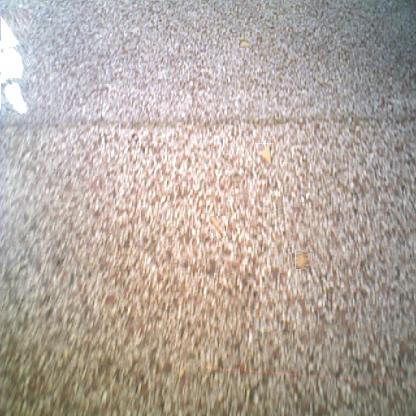dirty: (1, 9, 29, 115), (255, 143, 273, 166), (210, 216, 226, 238), (294, 251, 310, 268), (238, 38, 251, 48)
